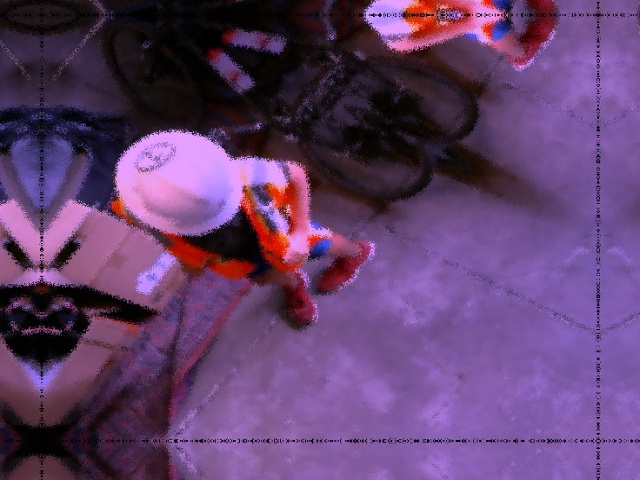one: (129, 135, 177, 176)
